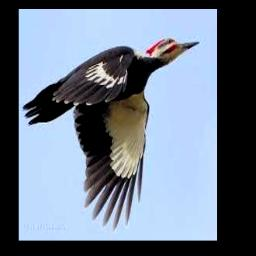Woodpecker: (22, 37, 200, 231)
